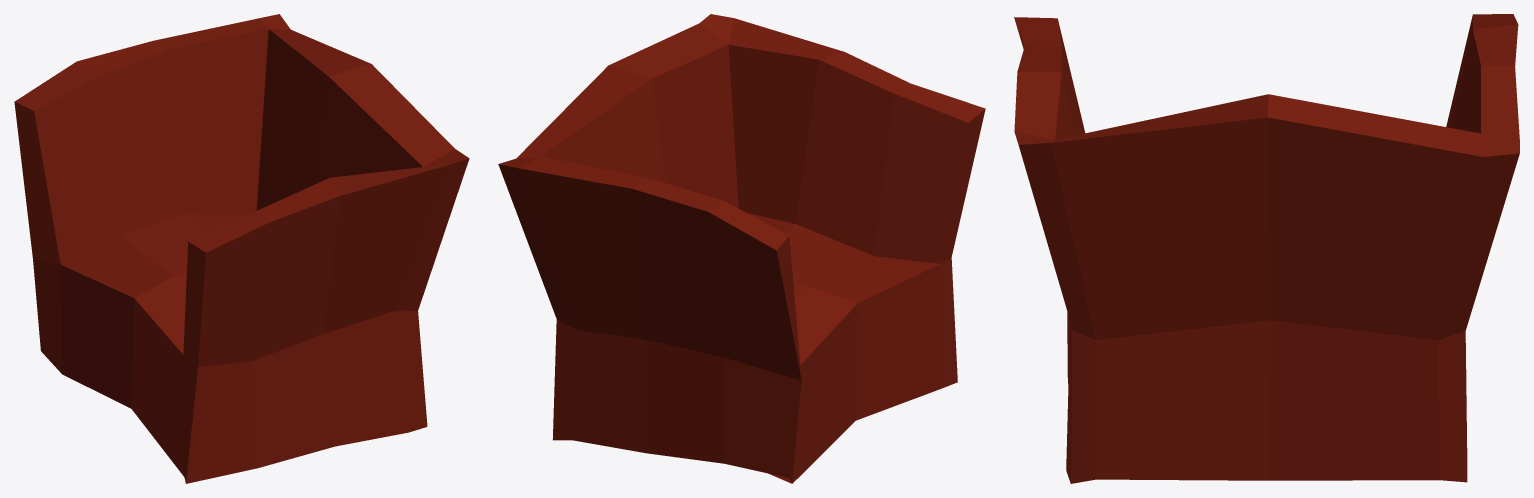
File: Armchair.fbx
3 views of the same model, side by side, from view 1: azimuth 30°, elevation 25°; view 2: azimuth 150°, elevation 25°; view 3: azimuth 270°, elevation 25° (orthographic). The views are drawn at different scales.
Parts seen in each view (by area): view 1: Armchair; view 2: Armchair; view 3: Armchair.
Boxes of the visible parts, bbox=[...] form: Armchair: bbox=[14, 14, 469, 483]; Armchair: bbox=[498, 14, 985, 483]; Armchair: bbox=[1014, 14, 1519, 483].
Size of the model in its own units: 99.87 by 105 by 126.
